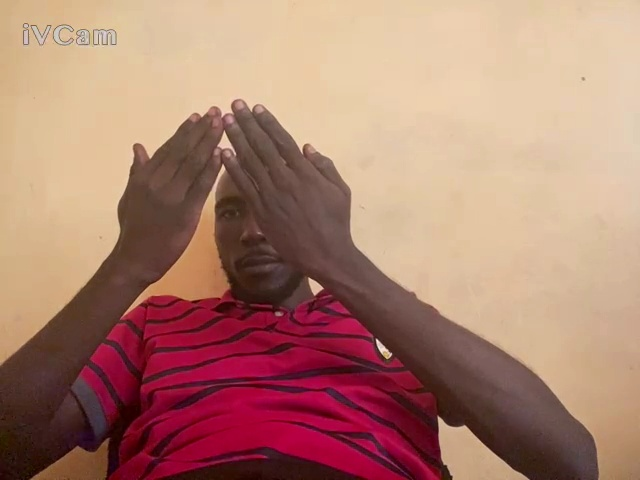Merci: (110, 97, 363, 267)
